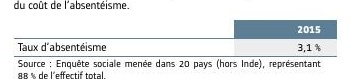table: (0, 0, 355, 79)
